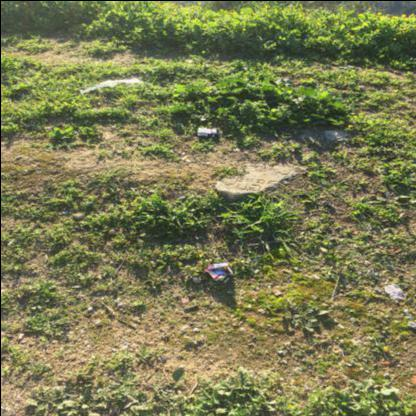Carton: (204, 262, 232, 280), (197, 126, 219, 136)
Cigarette: (223, 276, 228, 282)
Plastic bag - wrapper: (79, 78, 142, 93)
